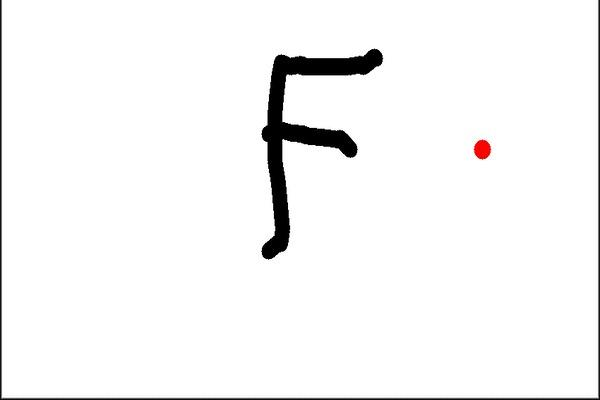F: (258, 45, 387, 262)
